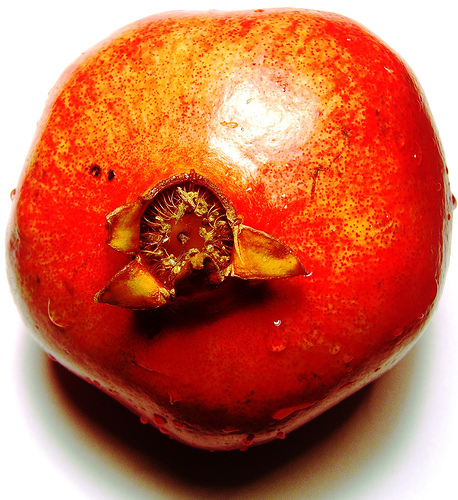pomogranate: (8, 8, 450, 450)
